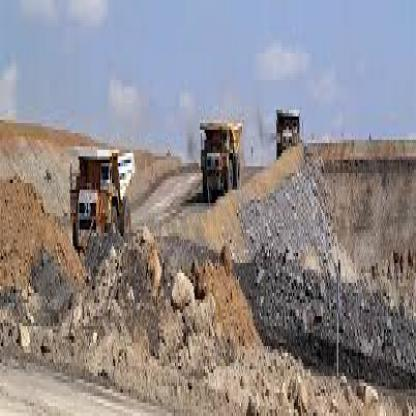dump_truck: (70, 123, 140, 283), (198, 93, 252, 210), (274, 86, 308, 176)
